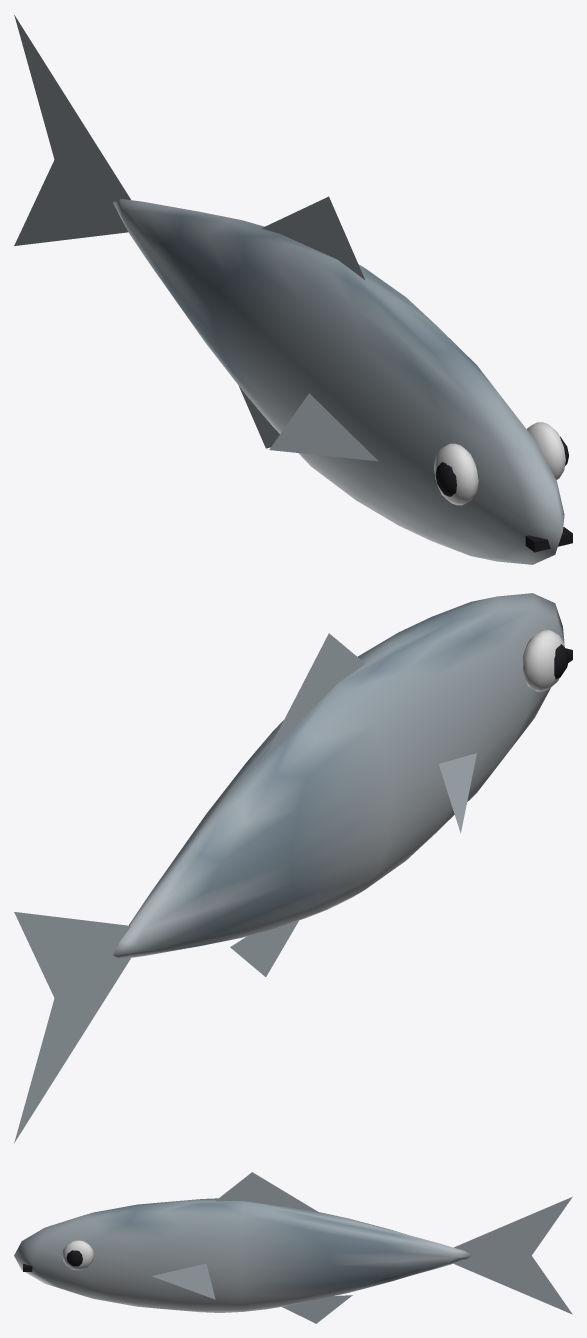
The model's file is bonefisch.glb.
The picture shows the model from 3 angles, top to bottom: view 1: azimuth 30°, elevation 25°; view 2: azimuth 150°, elevation 25°; view 3: azimuth 270°, elevation 25°; orthographic projection. The views are drawn at different scales.
Visible parts, largest first — view 1: bonefisch; view 2: bonefisch; view 3: bonefisch.
Part boxes in pixels (x1,y1,x2,y2): bonefisch: (14, 15, 572, 564); bonefisch: (14, 593, 572, 1142); bonefisch: (14, 1172, 572, 1323).
Bounding box in the file's own units: 0.246 × 0.3658 × 1.22.
